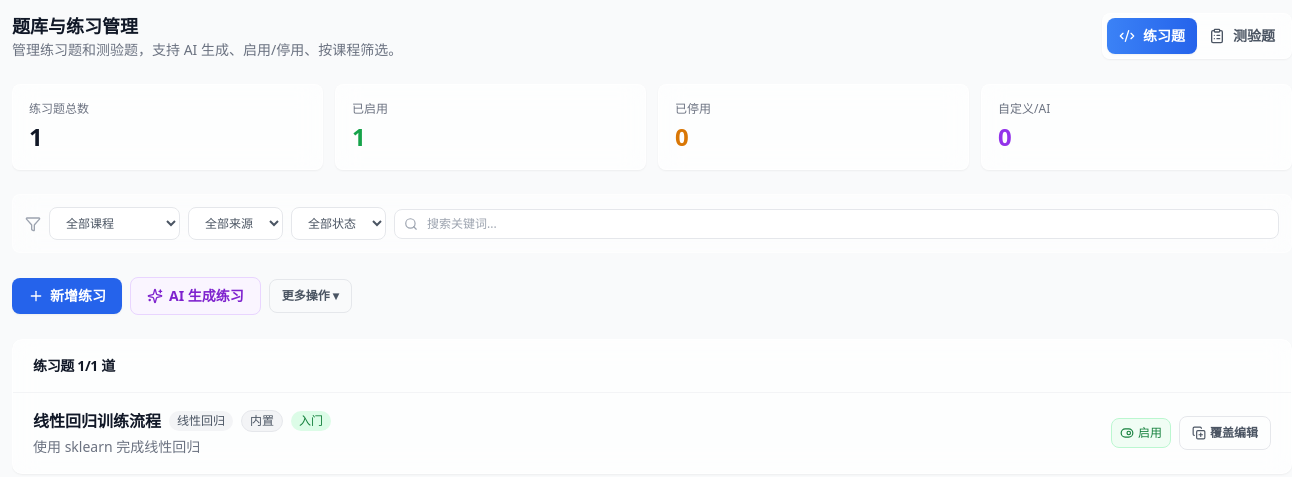
Scenario: AdminQuestionPanel › 筛选功能 › 搜索框按关键词过滤
This screenshot has width=1292, height=477.
Type "不存在的练习" into the field with placeholder "搜索关键词...". click: [836, 224]
box: [394,208,1279,238]
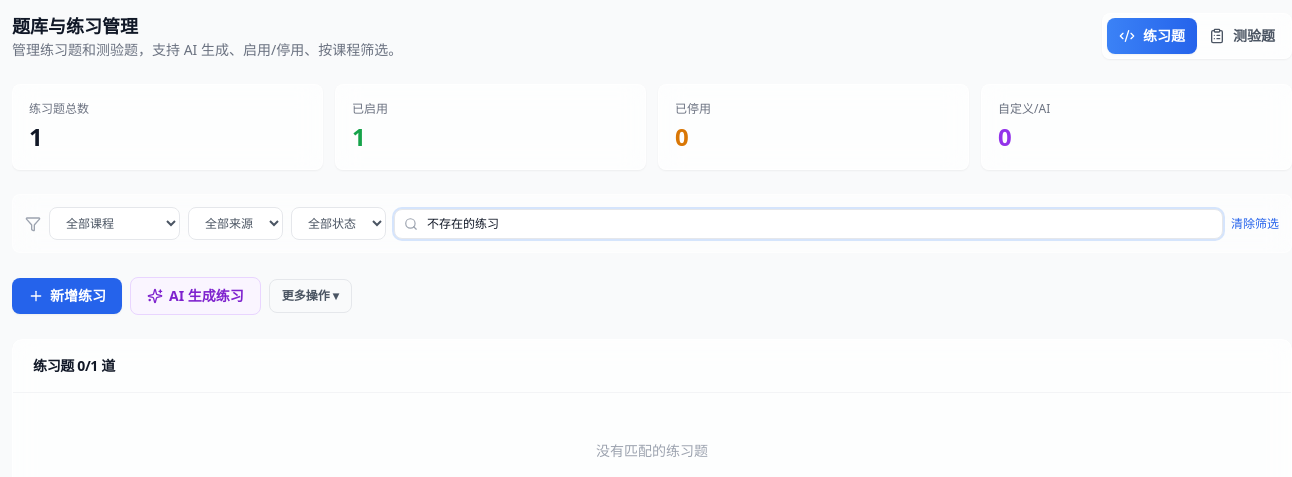
Expected: the text "没有匹配的练习题" is shown, [596,441,708,460]
